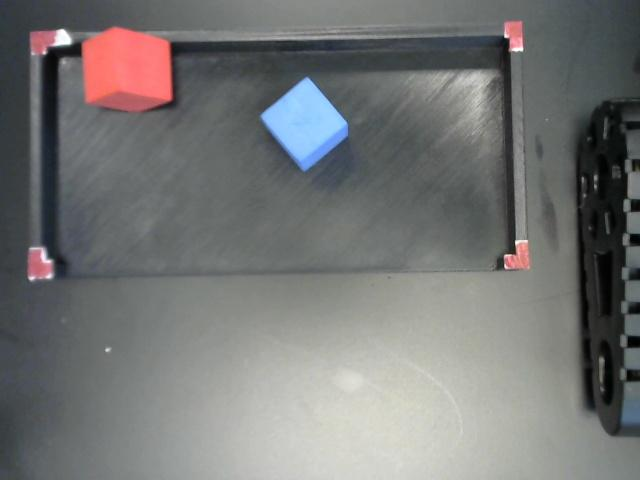cube: (261, 73, 353, 170), (81, 33, 171, 111)
